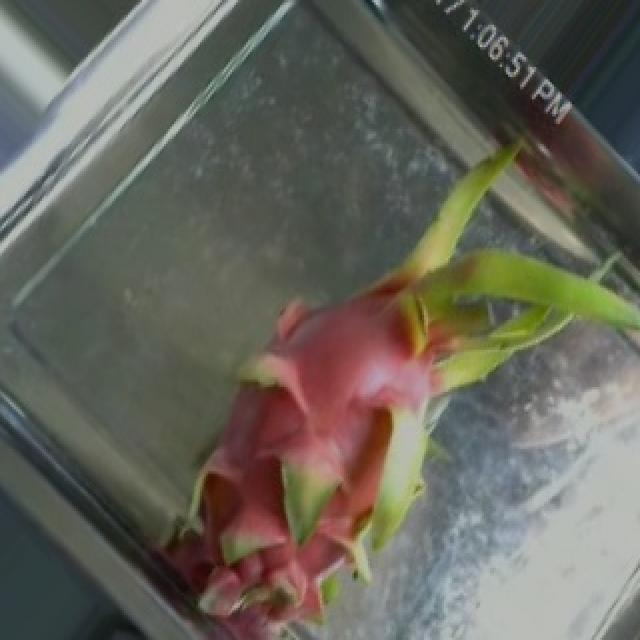fruit: (206, 221, 636, 637), (62, 238, 420, 640)
